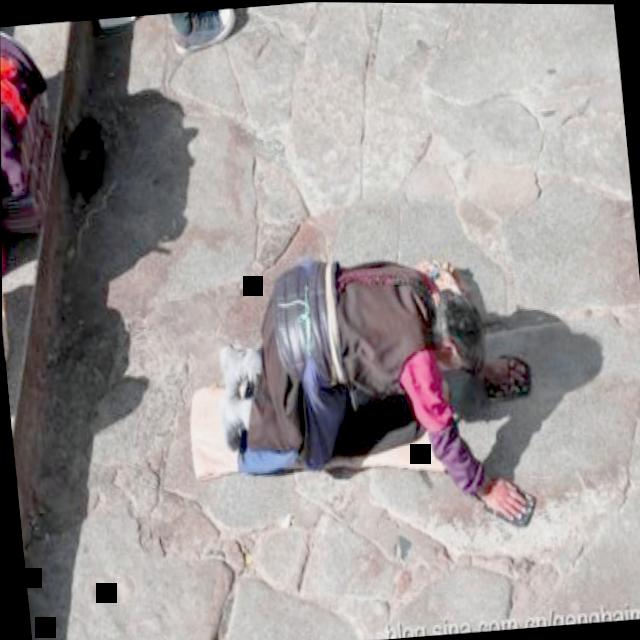Fall-Detected: (189, 227, 545, 547)
